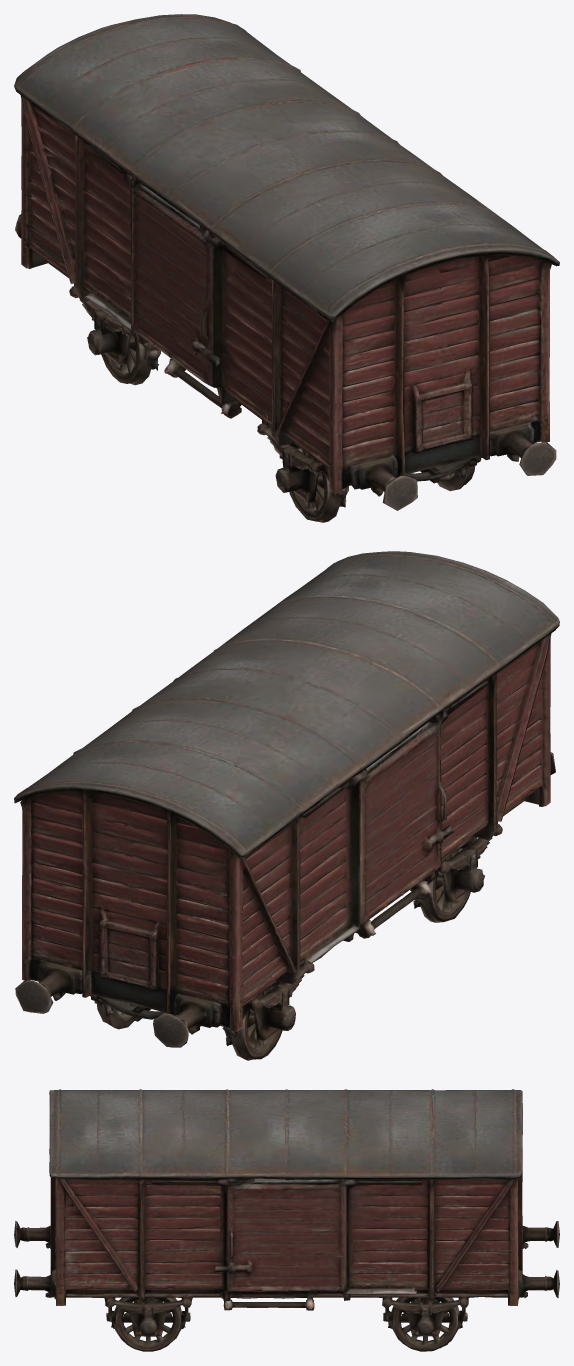
Rendered from prop_boxcar.glb.
The picture shows the model from 3 angles, top to bottom: view 1: azimuth 30°, elevation 25°; view 2: azimuth 150°, elevation 25°; view 3: azimuth 270°, elevation 25°; orthographic projection. The views are drawn at different scales.
Visible parts, largest first — view 1: tripo_node_56a4c085-daa0-4d52-aea2-01c22856049e; view 2: tripo_node_56a4c085-daa0-4d52-aea2-01c22856049e; view 3: tripo_node_56a4c085-daa0-4d52-aea2-01c22856049e.
Part boxes in pixels (x1,y1,x2,y2): tripo_node_56a4c085-daa0-4d52-aea2-01c22856049e: [14, 14, 559, 522]; tripo_node_56a4c085-daa0-4d52-aea2-01c22856049e: [14, 551, 559, 1060]; tripo_node_56a4c085-daa0-4d52-aea2-01c22856049e: [14, 1089, 559, 1351].
Size of the model in its own units: 0.375 by 0.4355 by 0.9813.
Materials: 1 (1 with a texture image).
